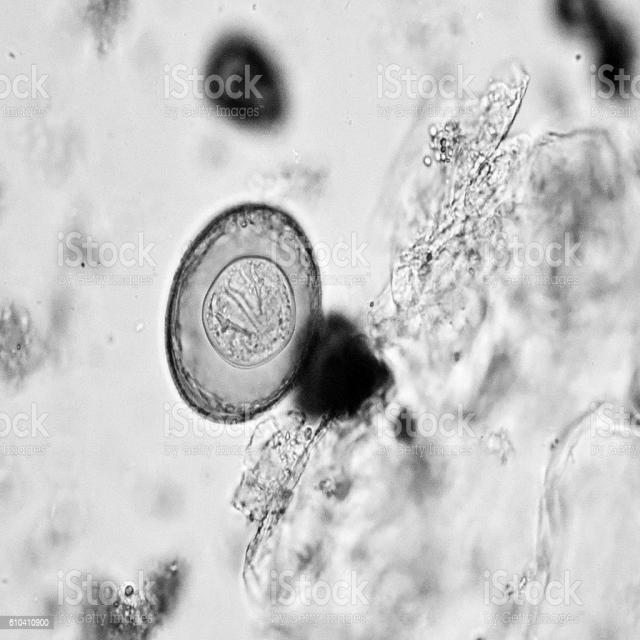Hymenolepis: (162, 199, 326, 440)
